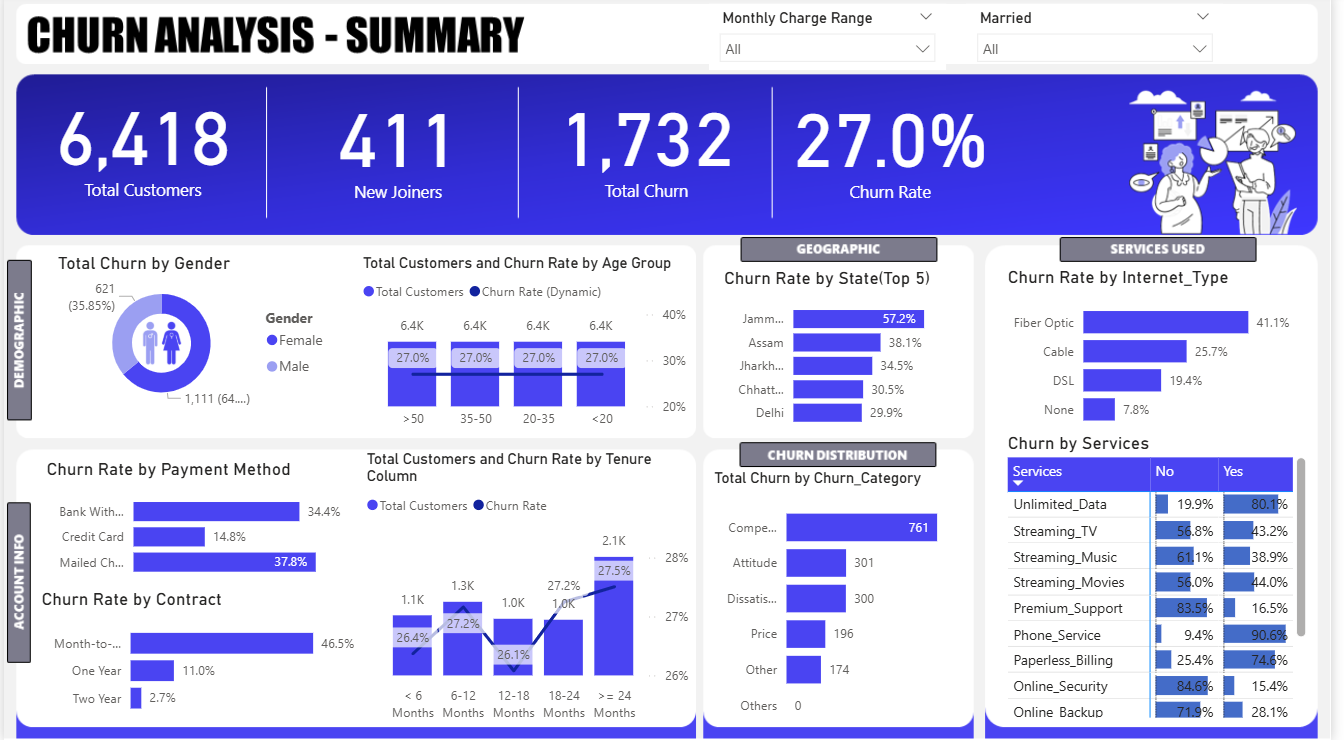

Layout of this report page (visuals, bound fields, positions):
{"tool":"powerbi","page":{"name":"Summary","canvas":[1280,720],"ordinal":0},"visuals":[{"type":"card","fields":{"Values":["table_measures.Total Customers"]},"box":[17.5,72.5,232.5,133.8],"z":0},{"type":"card","fields":{"Values":["table_measures.New Joiners"]},"box":[265,72.5,230,137.5],"z":1000},{"type":"card","fields":{"Values":["table_measures.Total Churn"]},"box":[495,73.8,251.2,133.8],"z":2000},{"type":"card","fields":{"Values":["table_measures.Churn Rate"]},"box":[746.2,72.5,217.5,137.5],"z":3000},{"type":"donutChart","fields":{"Category":["prod_Churn.Gender"],"Y":["table_measures.Total Churn"]},"box":[47.5,248.8,276.2,156.2],"z":4000},{"type":"lineStackedColumnComboChart","title":"Total Customers and Churn Rate by Age Group","fields":{"Category":["mapping_AgeGrp.Age Group"],"Y":["table_measures.Total Customers"],"Y2":["prod_Churn.Churn Rate (Dynamic)"]},"box":[341.2,250,322.5,177.5],"z":5000},{"type":"clusteredBarChart","title":"Churn Rate by Payment Method","fields":{"Category":["prod_Churn.Payment_Method"],"Y":["select","prod_services.Churn__Rate"]},"box":[36.2,447.5,305,125],"z":6000},{"type":"clusteredBarChart","fields":{"Category":["prod_Churn.Contract"],"Y":["table_measures.Churn Rate"]},"box":[31.2,572.5,313.8,132.5],"z":7000},{"type":"lineStackedColumnComboChart","fields":{"Category":["mapping_TenureGrp.Tenure Column"],"Y":["table_measures.Total Customers"],"Y2":["table_measures.Churn Rate"]},"box":[345,438.8,321.2,268.8],"z":8000},{"type":"clusteredBarChart","title":"Churn Rate by State(Top 5)","fields":{"Category":["prod_Churn.State"],"Y":["table_measures.Churn Rate"]},"box":[690,262.5,236.2,163.8],"z":9000},{"type":"clusteredBarChart","fields":{"Category":["prod_Churn.Churn_Category"],"Y":["table_measures.Total Churn"]},"box":[680,457.5,250,261.2],"z":10000},{"type":"clusteredBarChart","fields":{"Category":["prod_Churn.Internet_Type"],"Y":["table_measures.Churn Rate"]},"box":[963.8,261.2,287.5,166.2],"z":11000},{"type":"pivotTable","title":"Churn by Services","fields":{"Rows":["prod_services.Services"],"Columns":["prod_services.Status"],"Values":["Sum(prod_services.Churn Status)"]},"box":[963.8,422.5,297.5,280],"z":12000},{"type":"slicer","fields":{"Values":["prod_Churn.Monthly Charge Status"]},"box":[680,8.8,228.8,63.8],"z":13000},{"type":"image","box":[111.2,303.8,83.8,62.5],"z":13500},{"type":"slicer","fields":{"Values":["prod_Churn.Married"]},"box":[928.8,8.8,247.5,57.5],"z":14000}]}

Visuals, with their boxes in screenshot pixels (x1, y1, x2, y2), scaled from the page's 1280x720 canvas onto the 1344x740 screenshot:
card - table_measures.Total Customers: bbox(18, 75, 262, 212)
card - table_measures.New Joiners: bbox(278, 75, 520, 216)
card - table_measures.Total Churn: bbox(520, 76, 784, 213)
card - table_measures.Churn Rate: bbox(784, 75, 1012, 216)
donutChart - prod_Churn.Gender x table_measures.Total Churn: bbox(50, 256, 340, 416)
"Total Customers and Churn Rate by Age Group" lineStackedColumnComboChart: bbox(358, 257, 697, 439)
"Churn Rate by Payment Method" clusteredBarChart: bbox(38, 460, 358, 588)
clusteredBarChart - prod_Churn.Contract x table_measures.Churn Rate: bbox(33, 588, 362, 725)
lineStackedColumnComboChart - mapping_TenureGrp.Tenure Column x table_measures.Total Customers: bbox(362, 451, 700, 727)
"Churn Rate by State(Top 5)" clusteredBarChart: bbox(724, 270, 973, 438)
clusteredBarChart - prod_Churn.Churn_Category x table_measures.Total Churn: bbox(714, 470, 976, 739)
clusteredBarChart - prod_Churn.Internet_Type x table_measures.Churn Rate: bbox(1012, 268, 1314, 439)
"Churn by Services" pivotTable: bbox(1012, 434, 1324, 722)
slicer - prod_Churn.Monthly Charge Status: bbox(714, 9, 954, 75)
image: bbox(117, 312, 205, 376)
slicer - prod_Churn.Married: bbox(975, 9, 1235, 68)
